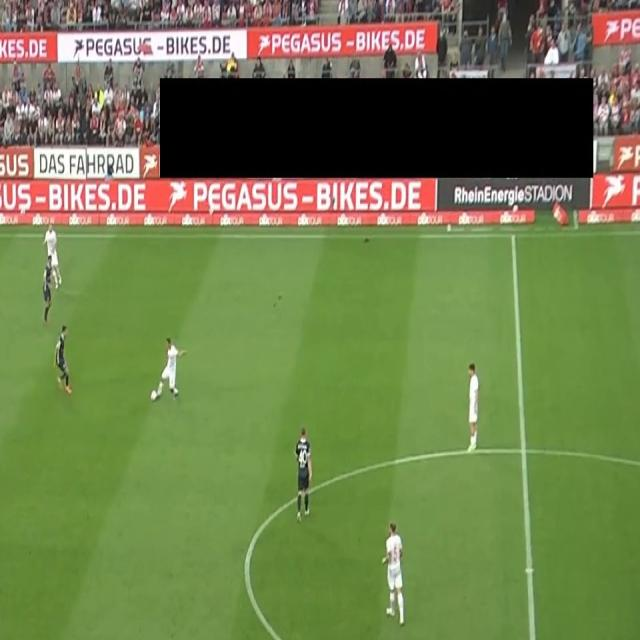ball: (150, 388, 158, 403)
